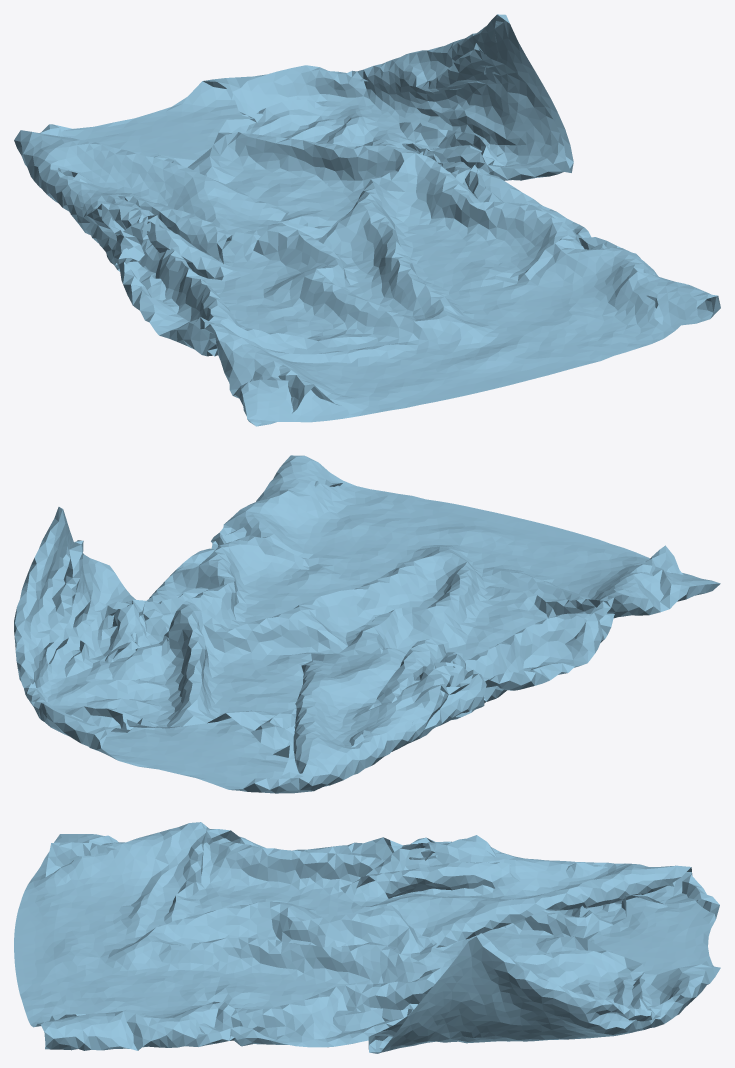
The model's file is frame_06.glb.
3 renders of one model, top to bottom at view 1: azimuth 30°, elevation 25°; view 2: azimuth 150°, elevation 25°; view 3: azimuth 270°, elevation 25°, orthographic. The views are drawn at different scales.
Visible parts, largest first — view 1: frame_06.obj; view 2: frame_06.obj; view 3: frame_06.obj.
Part boxes in pixels (<box>): frame_06.obj: <box>14,14,720,426</box>; frame_06.obj: <box>14,455,720,793</box>; frame_06.obj: <box>14,822,720,1053</box>.
Size of the model in its own units: 1.3 by 0.3483 by 1.69.
